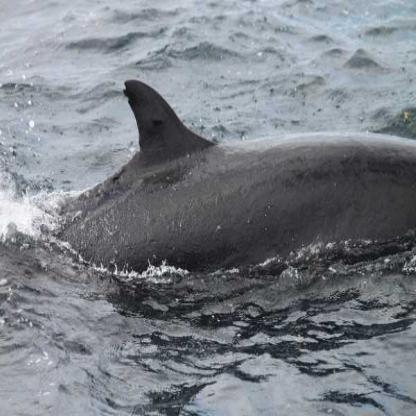dolphin-whale: (33, 78, 415, 289)
